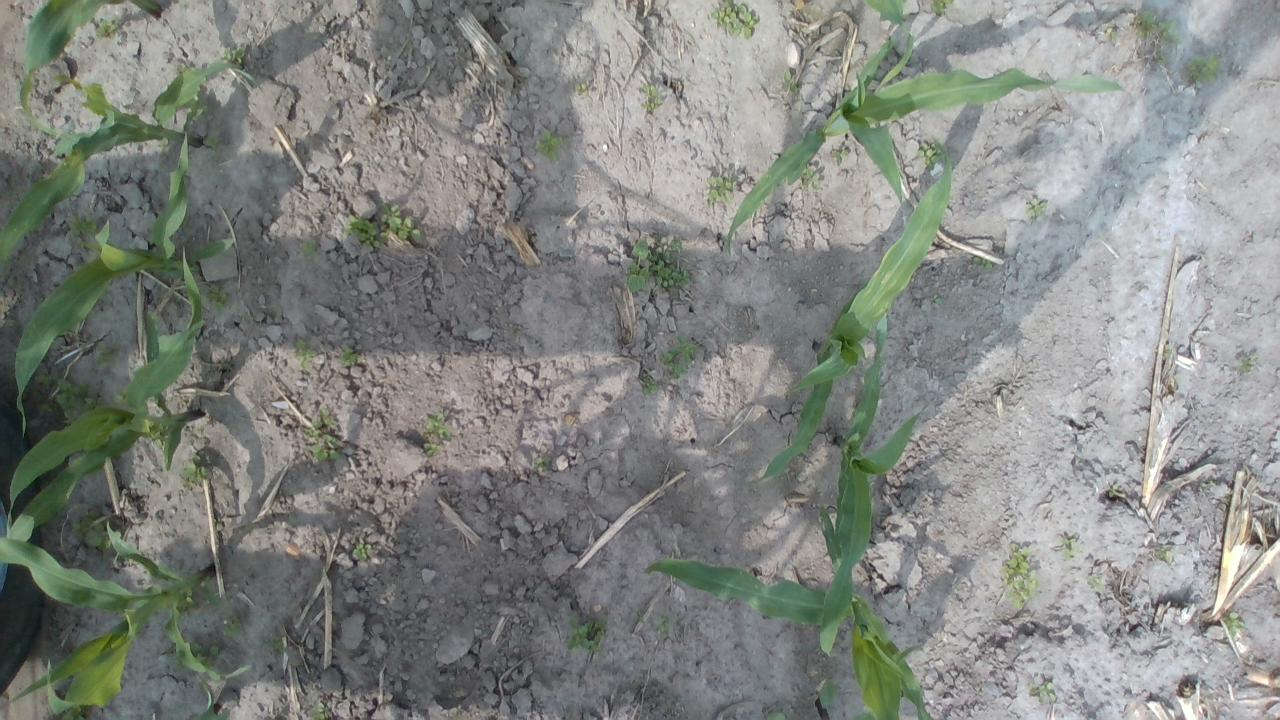Maize: (726, 36, 1134, 251), (740, 144, 954, 486), (15, 133, 238, 438), (642, 504, 936, 720), (7, 247, 206, 549), (0, 56, 258, 270), (0, 536, 254, 714), (818, 312, 927, 658), (16, 0, 162, 137), (176, 681, 227, 720), (806, 680, 843, 720), (855, 0, 905, 28)
Weeds: (35, 366, 101, 425), (625, 234, 689, 292), (1000, 543, 1040, 610), (303, 406, 346, 462), (72, 508, 116, 554), (710, 0, 760, 40), (564, 615, 608, 655), (379, 203, 424, 242), (660, 336, 696, 380), (342, 214, 379, 252), (68, 212, 100, 254), (532, 126, 568, 163), (189, 641, 224, 670), (1186, 54, 1222, 82), (916, 140, 948, 170), (204, 283, 234, 313), (183, 454, 210, 487), (292, 336, 318, 370), (706, 174, 736, 203), (1132, 9, 1158, 38), (797, 162, 821, 193), (424, 414, 452, 440), (1056, 535, 1082, 560), (95, 15, 122, 39), (640, 83, 662, 112), (1157, 21, 1182, 46), (337, 344, 364, 367), (94, 341, 116, 368), (1222, 611, 1244, 638), (148, 423, 169, 450), (1034, 681, 1058, 704), (780, 70, 801, 96), (1026, 196, 1050, 218), (222, 614, 244, 638), (220, 44, 246, 64), (164, 642, 182, 667), (1239, 352, 1259, 374), (191, 96, 209, 120), (61, 704, 86, 720), (654, 615, 674, 635), (930, 0, 953, 16), (312, 701, 331, 720), (353, 543, 372, 562), (829, 144, 848, 162), (972, 255, 993, 271), (642, 376, 658, 396), (266, 636, 286, 652), (532, 455, 549, 473), (574, 80, 591, 96), (301, 238, 316, 256), (632, 606, 646, 625), (1088, 574, 1104, 590), (423, 442, 439, 456), (766, 710, 788, 720), (1106, 23, 1118, 41), (206, 136, 226, 146), (184, 600, 200, 612), (1108, 485, 1120, 498), (1160, 549, 1172, 561), (929, 295, 944, 304), (1156, 54, 1168, 64)
